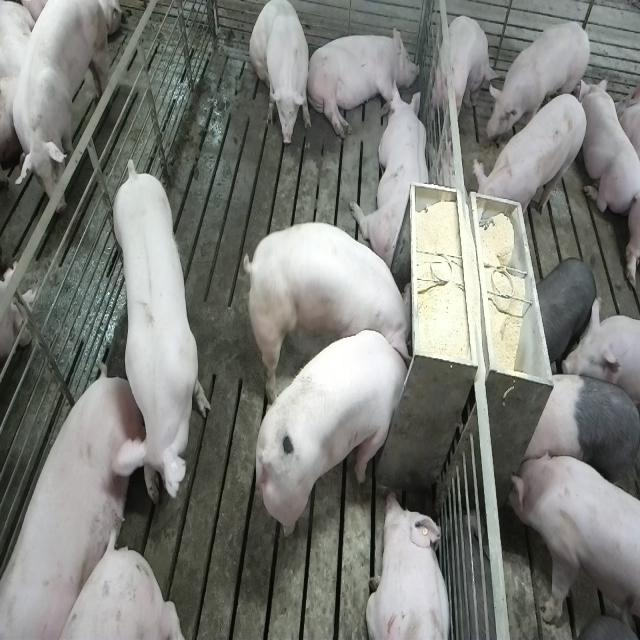Feeding: (258, 328, 418, 540), (248, 219, 421, 365)
Lateral_lying: (306, 22, 419, 141)
Sitting: (250, 0, 312, 148)
Standing: (108, 153, 211, 512), (1, 0, 114, 223), (507, 449, 638, 640), (514, 369, 638, 514), (473, 90, 589, 227), (485, 18, 593, 147), (436, 13, 498, 133), (534, 256, 597, 365)
Sternal_lying: (353, 83, 433, 272), (366, 491, 454, 640), (579, 69, 639, 217)
